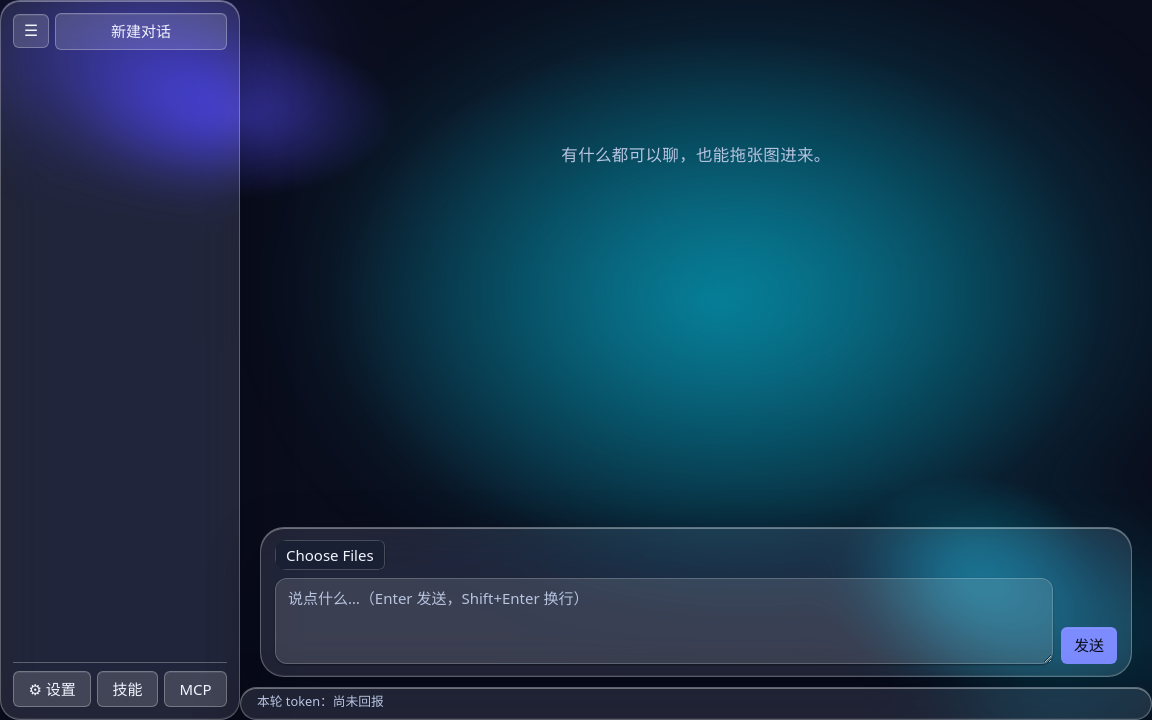
Test: App › opens the skills panel from the sidebar
The width and height of the screenshot is (1152, 720).
Click the button "技能" at {"x": 128, "y": 689}, box [97,670,158,707]
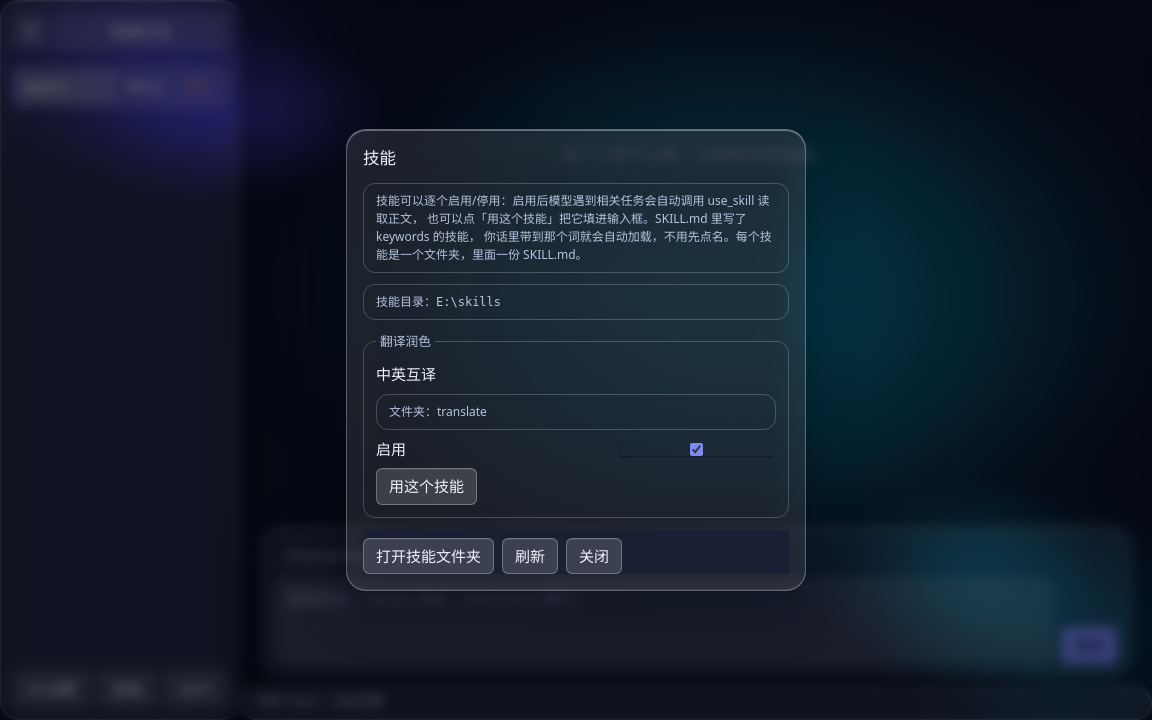
Check: the text "翻译润色" is shown, box [376,332,435,351]
Check: the text "中英互译" is shown, box [376,364,436,384]
